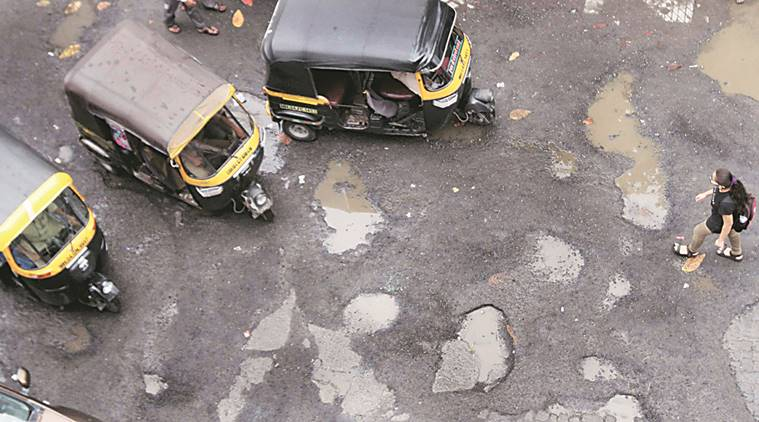pothole: (568, 50, 672, 234), (290, 150, 391, 261), (437, 281, 524, 401), (692, 0, 758, 107), (245, 278, 307, 356), (340, 277, 400, 333), (602, 378, 660, 421), (580, 333, 625, 387)
